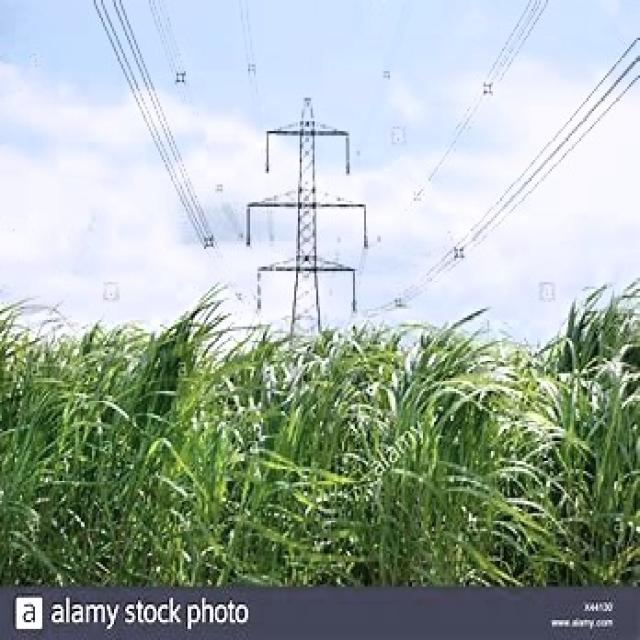utility poles: (248, 79, 358, 583)
